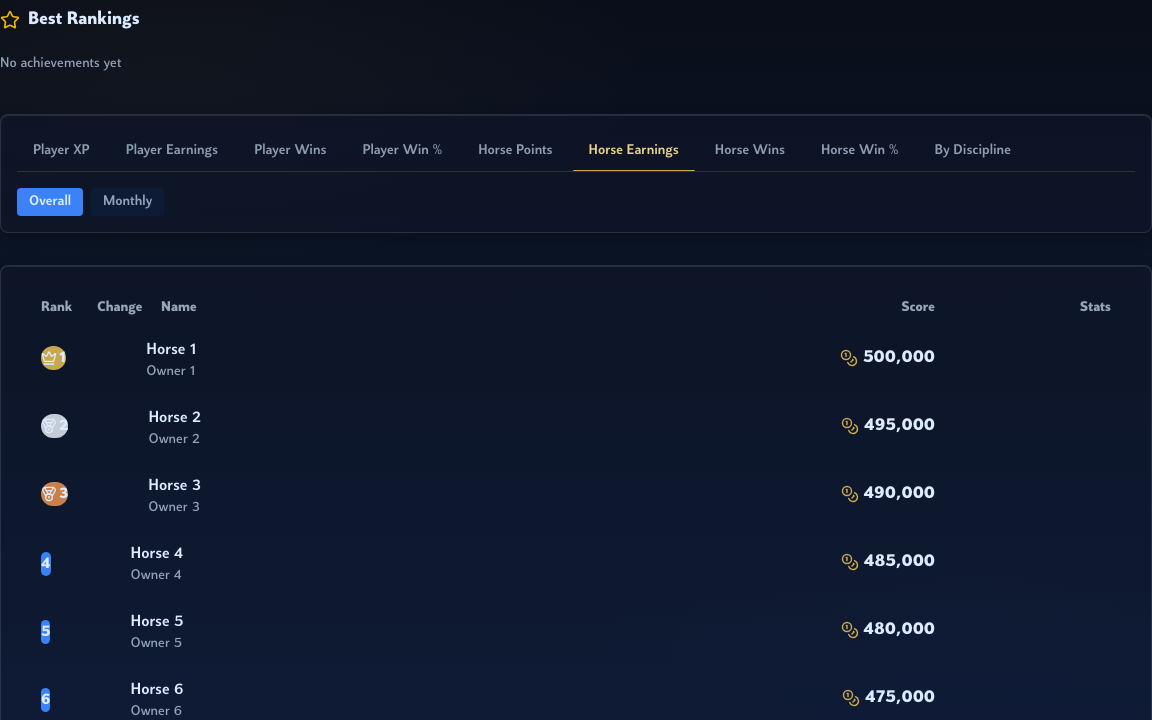
LeaderboardsPage — horse detail modal (Equoria-ffmha, Equoria-b9yi1) › still renders a recognised sex verbatim
(page scrolled)
Click the row with test id "leaderboard-entry" showing "1 Horse 1 Owner 1 500,000".
click(172, 350)  # box [41,342,935,379]
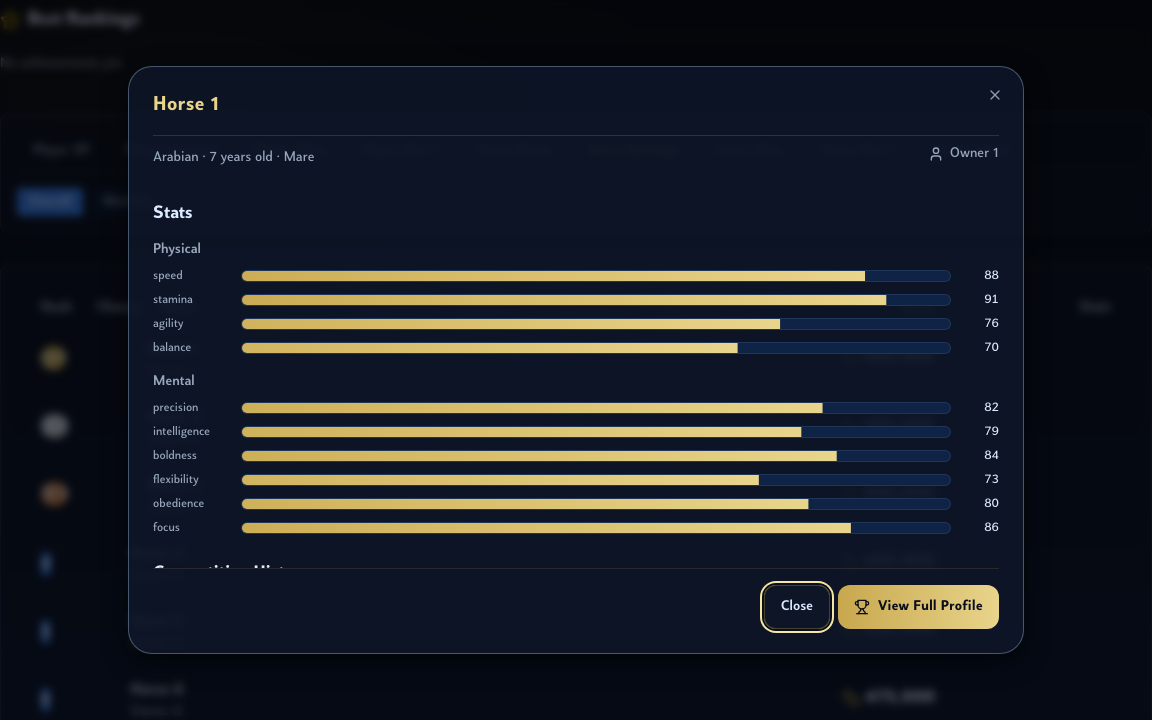
Result: the text "Arabian · 7 years old · Mare" is shown at [153,150,314,165]
